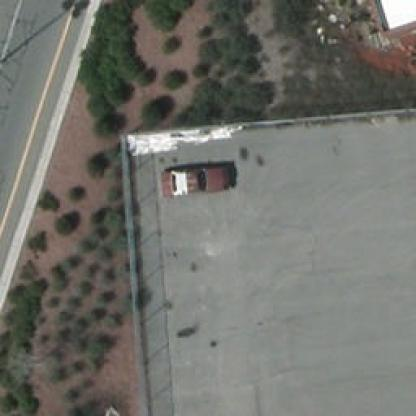car: (160, 164, 235, 200)
